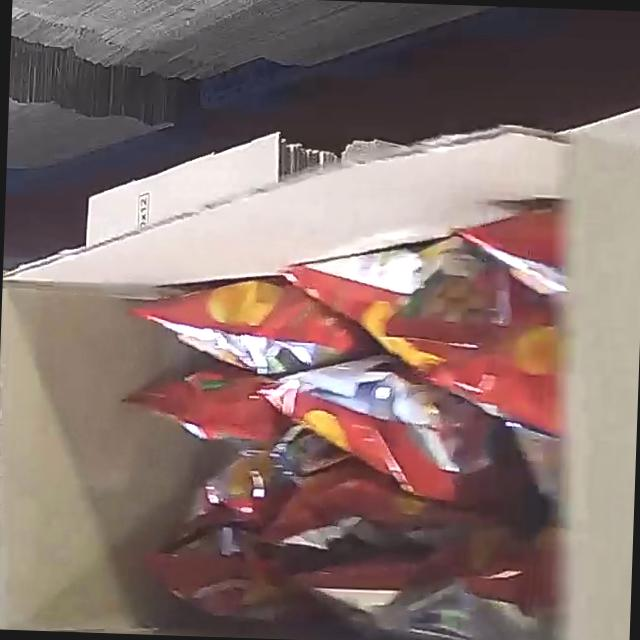masala: (109, 226, 569, 640)
